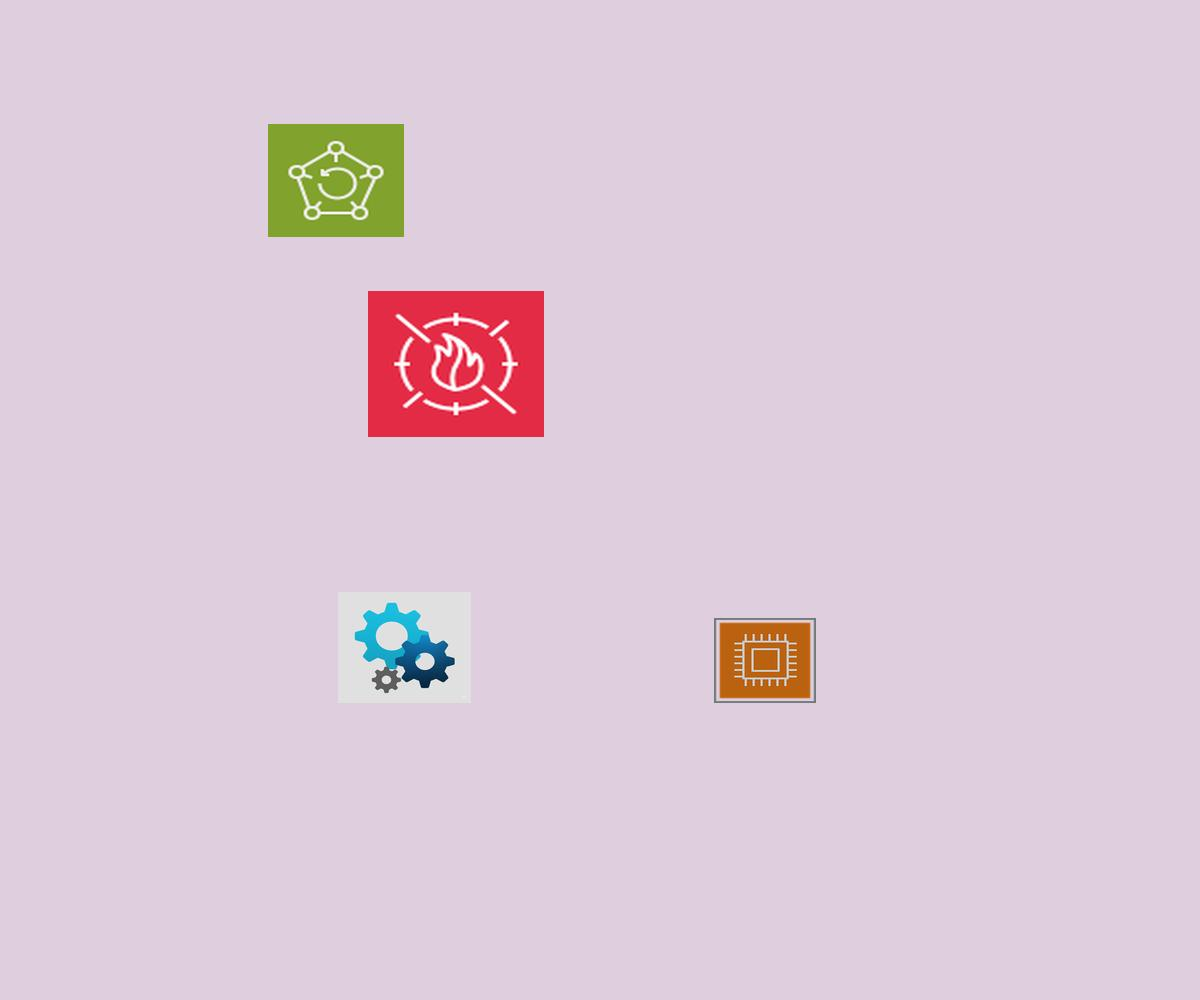AWS-Backup: (268, 124, 404, 237)
AWS-Category_Compute: (714, 618, 816, 703)
AWS-WAF: (368, 291, 544, 437)
Azure_api: (338, 592, 471, 703)
